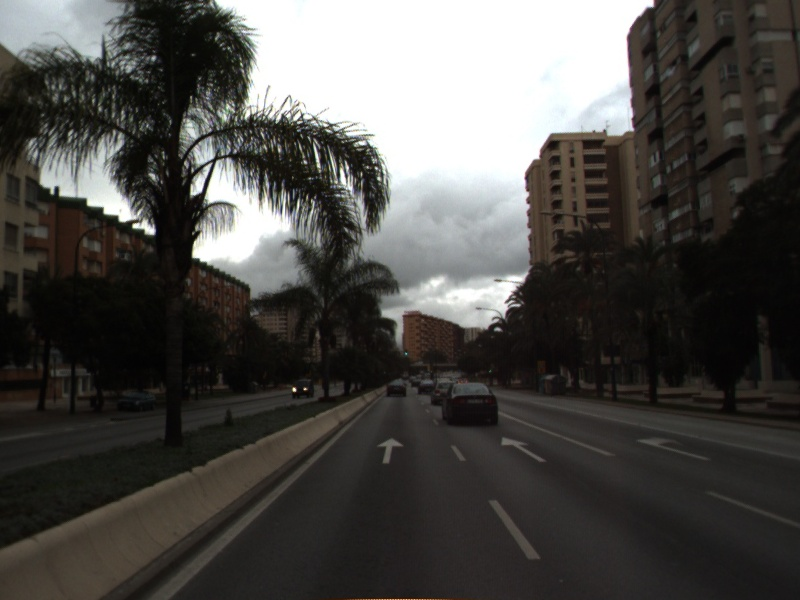RIGHT: (634, 433, 713, 463)
STRAIGHT: (499, 434, 550, 464), (374, 435, 407, 466)
